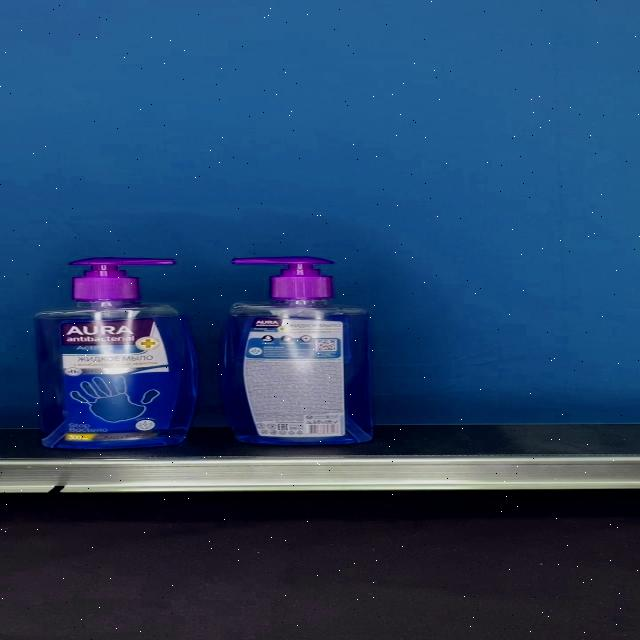Bottle: (33, 258, 198, 450), (220, 257, 374, 445)
Cap: (70, 258, 175, 301), (231, 257, 334, 300)
